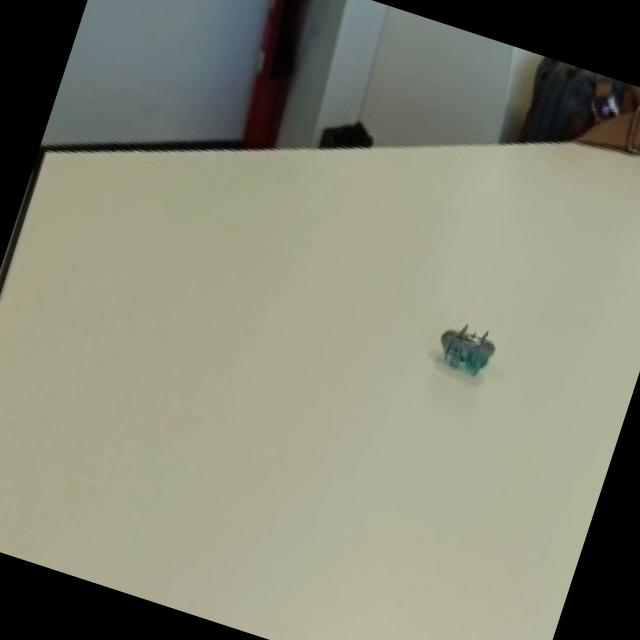5_NanoBug_GrisClaro: (398, 279, 530, 421)
